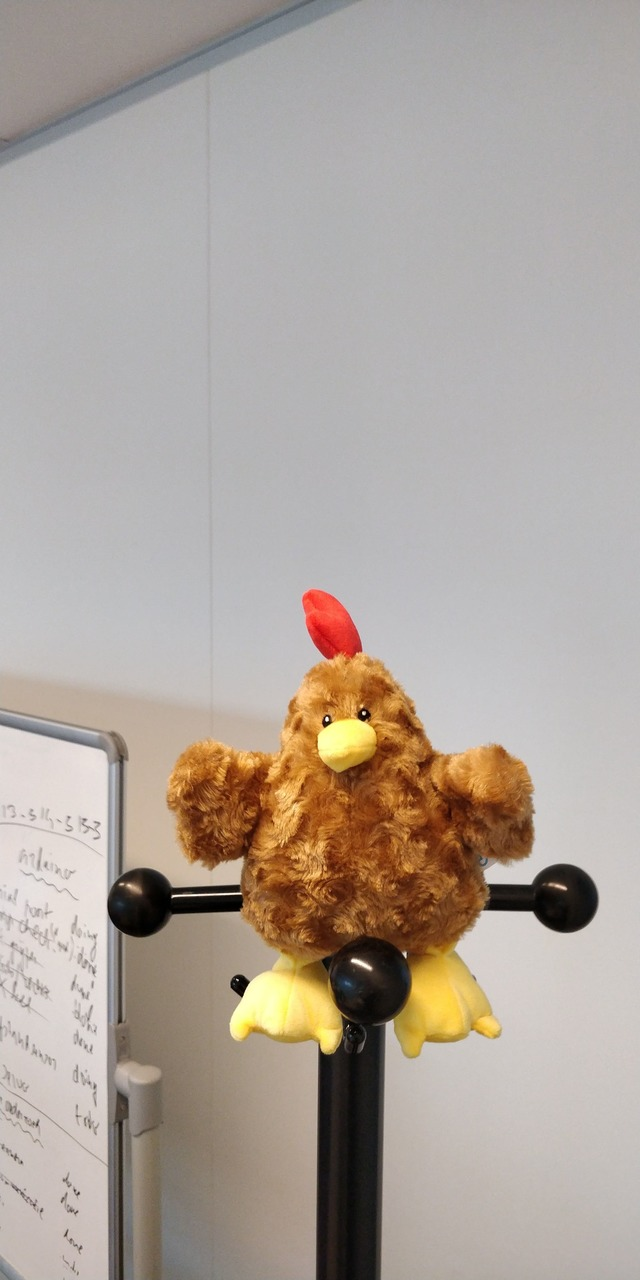fakeChicken: (165, 586, 536, 1060)
